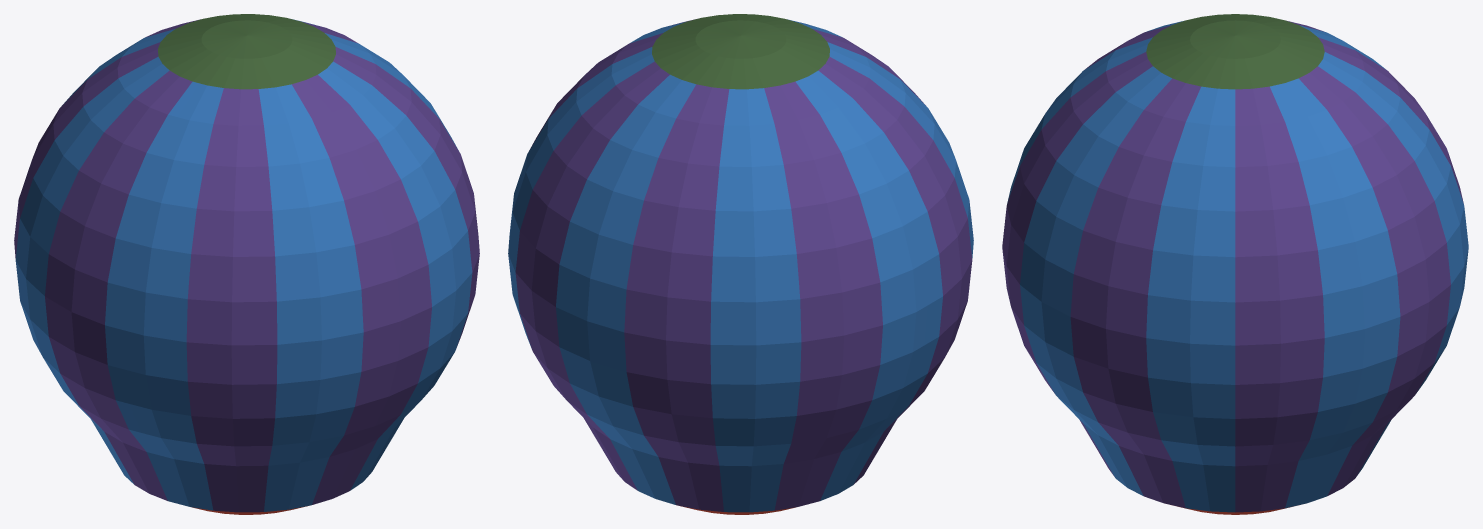
Rendered from Super_ShellS_Ball_10_P&B.fbx.
3 views of the same model, side by side, from view 1: azimuth 30°, elevation 25°; view 2: azimuth 150°, elevation 25°; view 3: azimuth 270°, elevation 25° (orthographic).
Visible parts, largest first — view 1: Sphere; view 2: Sphere; view 3: Sphere.
Part boxes in pixels (box(x1,y1,x2,y2)): Sphere: box(14, 14, 479, 514); Sphere: box(508, 14, 973, 514); Sphere: box(1002, 14, 1468, 514).
Size of the model in its own units: 35 by 37.88 by 35.
Materials: 1 (1 with a texture image).
